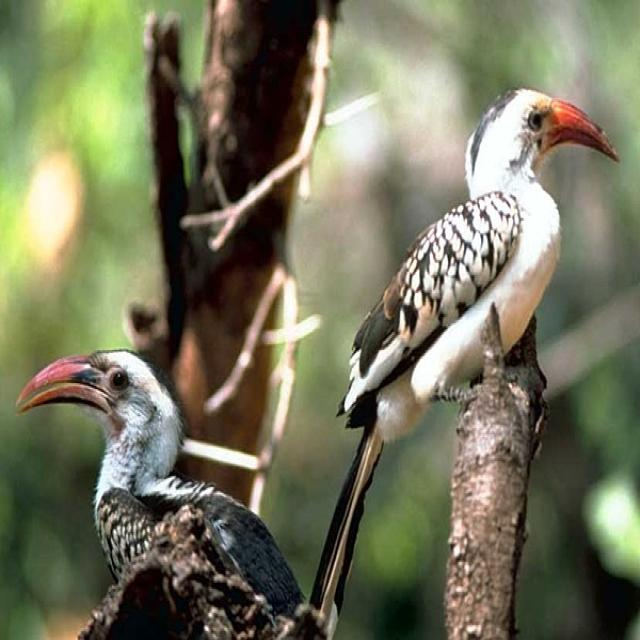Hornbill: (316, 86, 619, 617), (18, 343, 305, 636)
